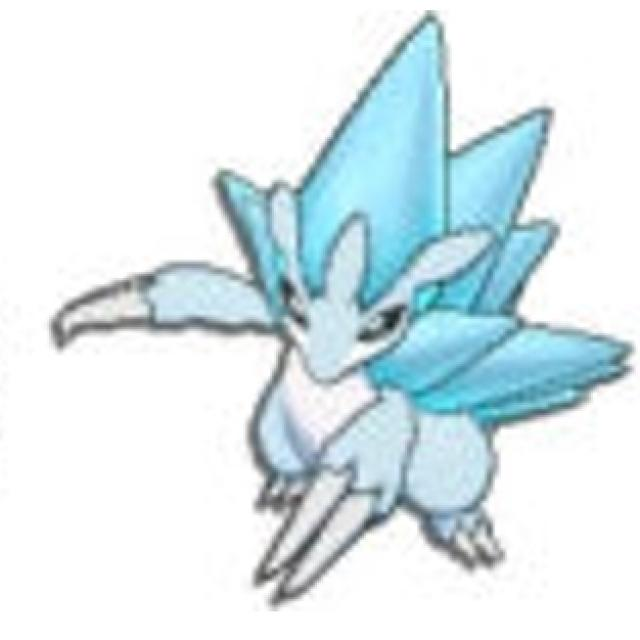Alolan: (49, 47, 614, 598)
